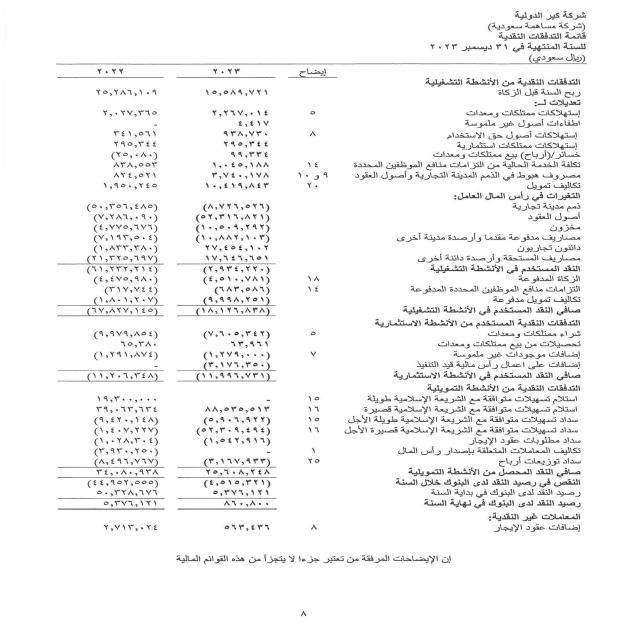financial_sheets: (494, 32, 600, 40)
table: (37, 58, 343, 551)
